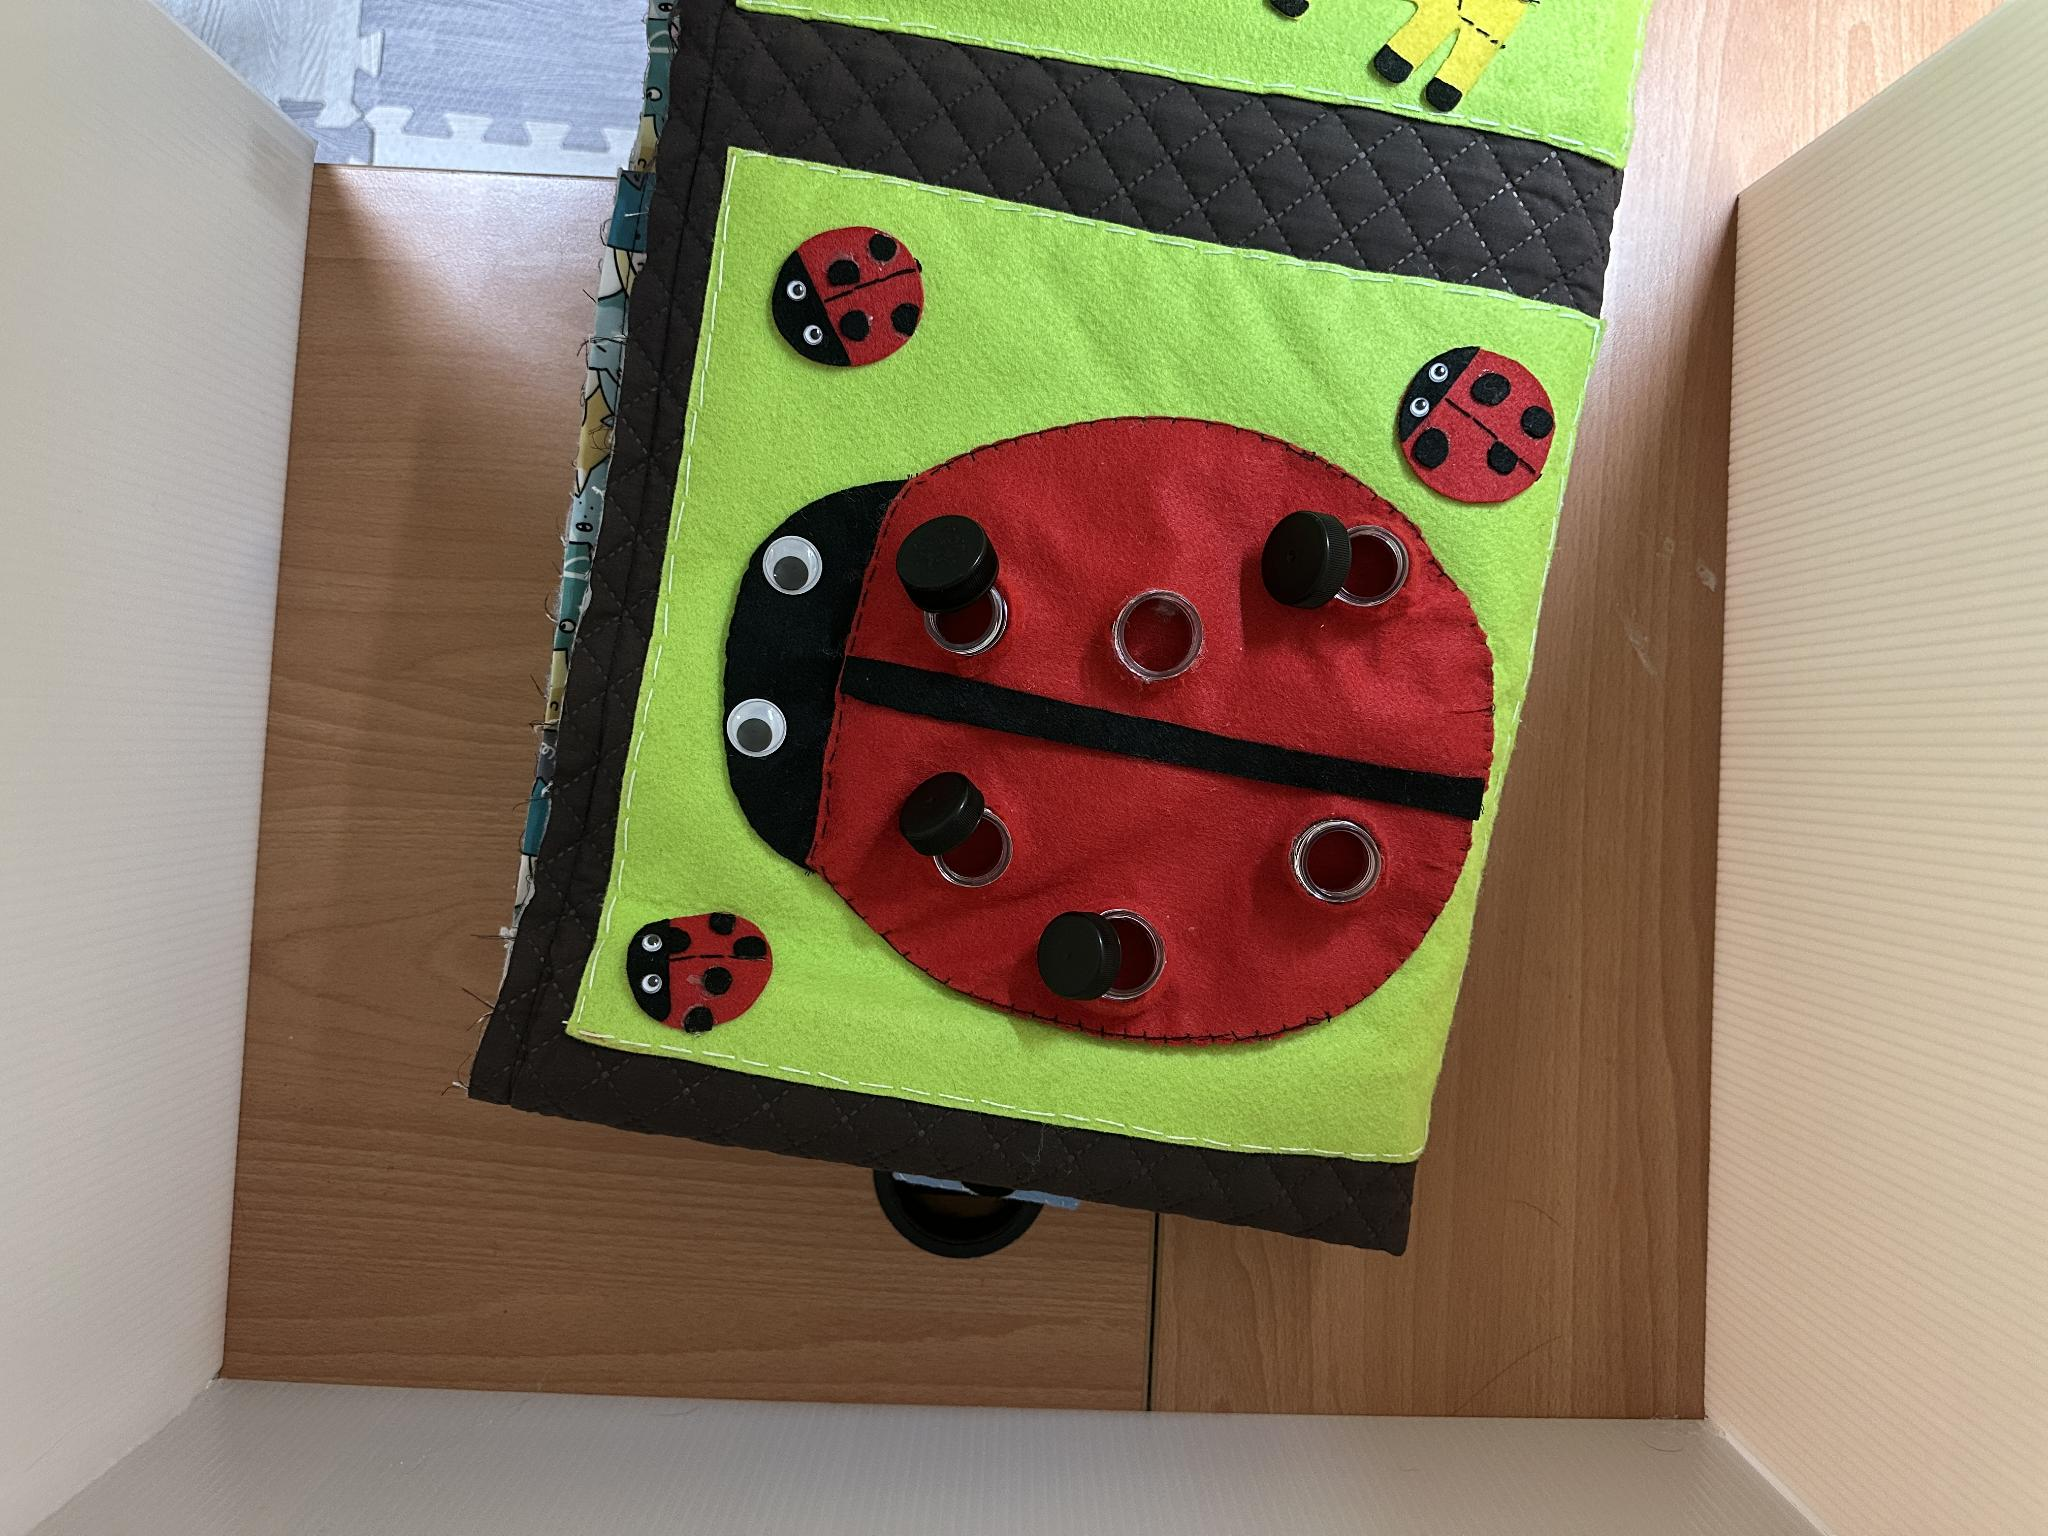cap_ng: (887, 511, 1042, 666), (1253, 490, 1429, 626), (1026, 889, 1188, 1025), (892, 765, 1030, 892)
